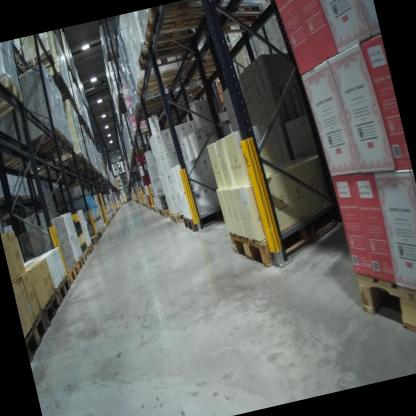pallet: (226, 184, 352, 271), (354, 256, 416, 360), (137, 0, 222, 54), (131, 28, 205, 75), (171, 48, 241, 94), (205, 0, 269, 42), (0, 66, 36, 132), (132, 61, 189, 98), (148, 0, 218, 29), (129, 81, 183, 116), (11, 44, 58, 83), (181, 201, 233, 235), (33, 287, 67, 337), (21, 309, 53, 360), (164, 76, 212, 109), (25, 126, 67, 159), (39, 133, 71, 157), (53, 273, 76, 304), (48, 141, 78, 164), (128, 121, 155, 140), (168, 207, 192, 227), (66, 262, 83, 286), (73, 253, 89, 275), (69, 152, 89, 168), (79, 246, 92, 265), (87, 235, 101, 249), (85, 241, 96, 255), (161, 207, 171, 220), (153, 205, 162, 216), (158, 206, 164, 218), (96, 231, 103, 240), (99, 229, 105, 238), (101, 226, 106, 233)
